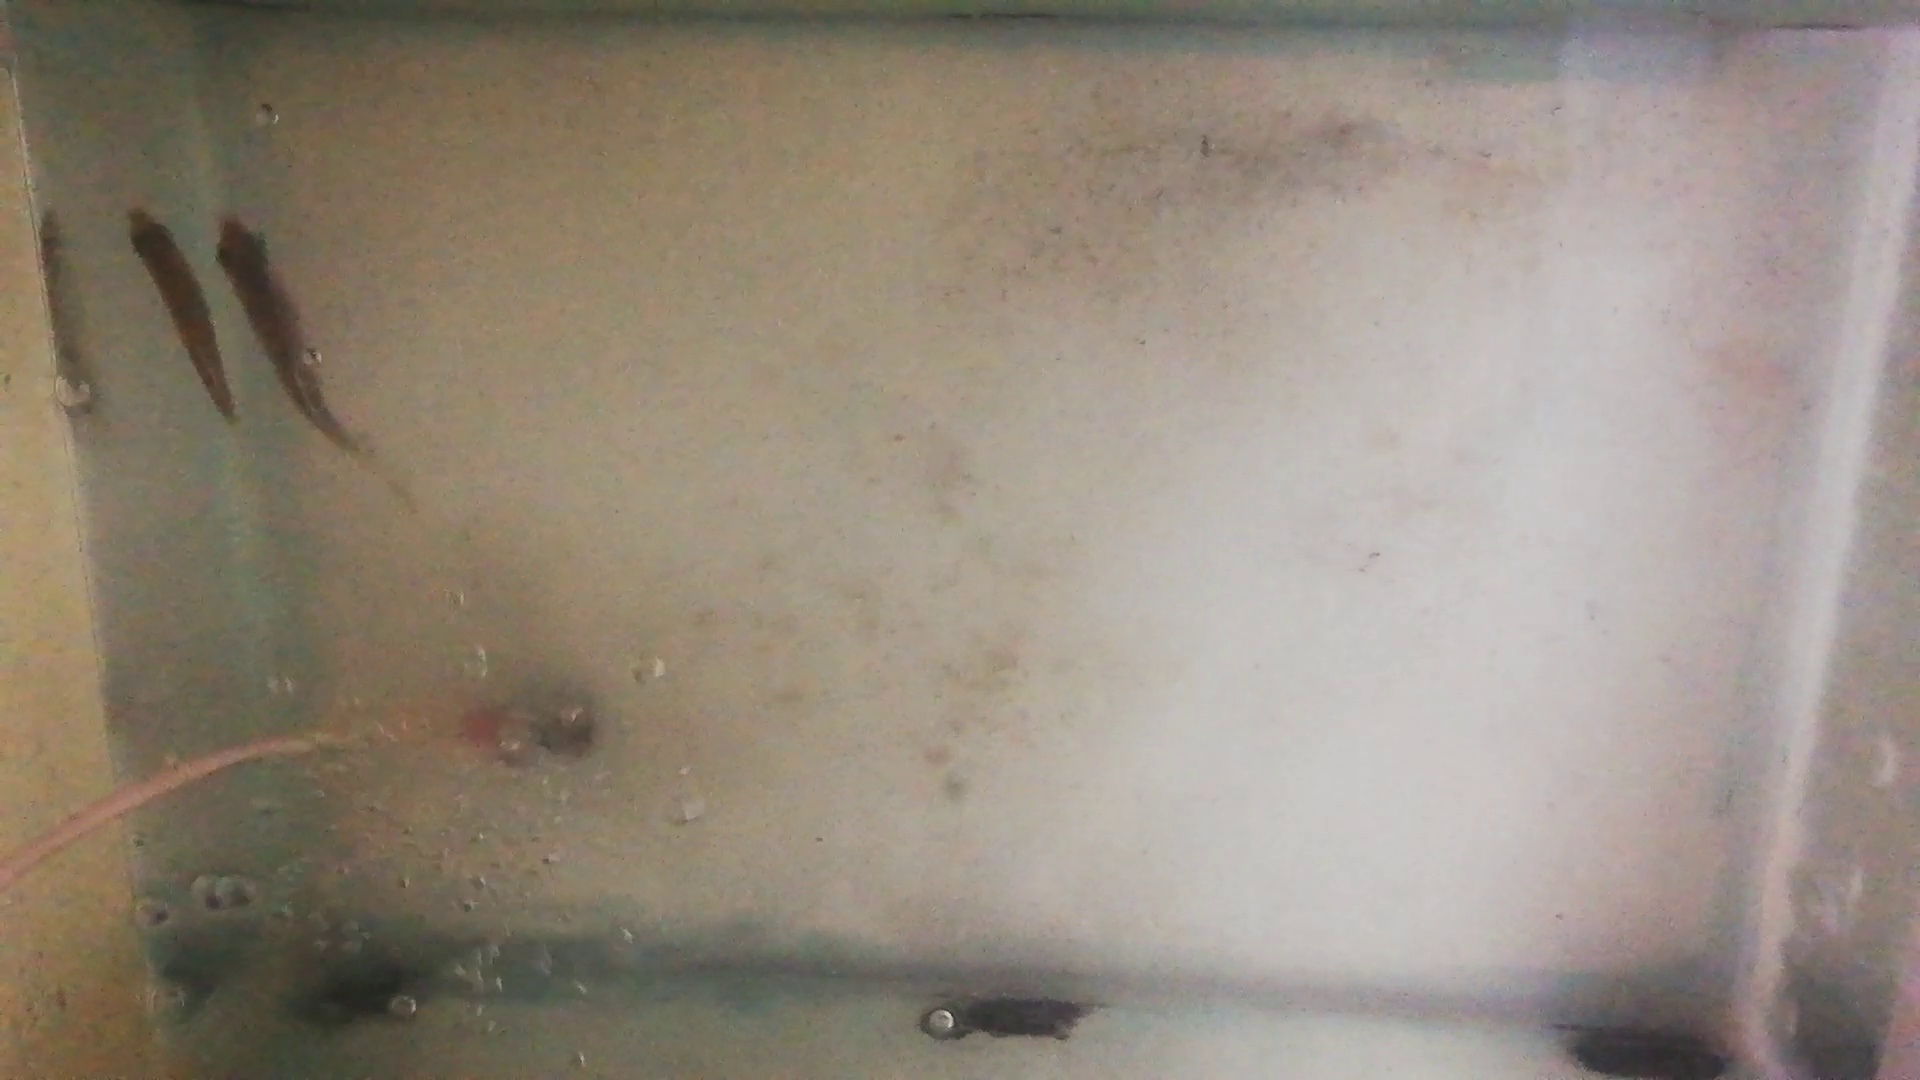fish: (210, 211, 351, 446), (125, 200, 237, 423)
